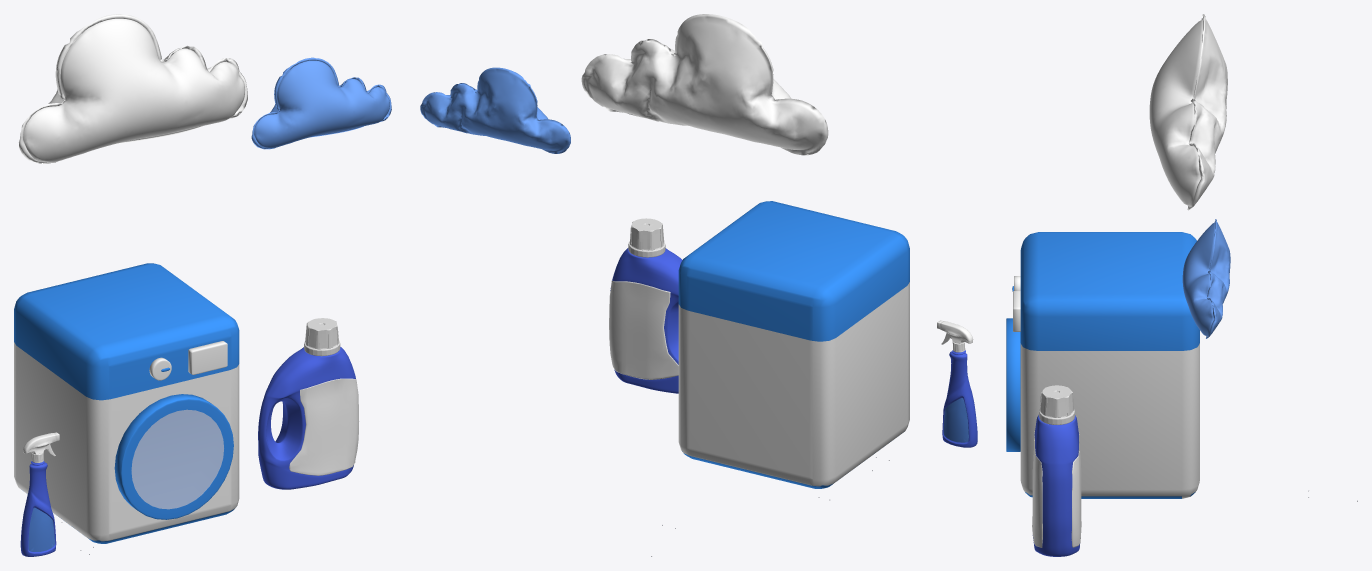
Rendered from wash.glb.
The picture shows the model from 3 angles, left to right: view 1: azimuth 30°, elevation 25°; view 2: azimuth 150°, elevation 25°; view 3: azimuth 270°, elevation 25°; orthographic projection. The views are drawn at different scales.
Visible parts, largest first — view 1: Cube.001, cloud-pillow.001, label, cloud-pillow, Trigger; view 2: Cube.001, cloud-pillow.001, label, cloud-pillow, Trigger; view 3: Cube.001, cloud-pillow.001, label, cloud-pillow.
Boxes of the visible parts, x1,y1,x2,y2 form: Cube.001: (14, 263, 239, 543); cloud-pillow.001: (19, 14, 247, 163); label: (258, 318, 359, 489); cloud-pillow: (251, 57, 391, 149); Trigger: (20, 432, 59, 556); Cube.001: (678, 201, 909, 488); cloud-pillow.001: (581, 14, 828, 155); label: (609, 218, 682, 393); cloud-pillow: (420, 67, 570, 153); Trigger: (937, 320, 977, 447); Cube.001: (1006, 232, 1199, 498); cloud-pillow.001: (1149, 14, 1227, 210); label: (1032, 385, 1081, 556); cloud-pillow: (1182, 219, 1230, 338).
Size of the model in its own units: 6.96 by 6.88 by 4.52.
